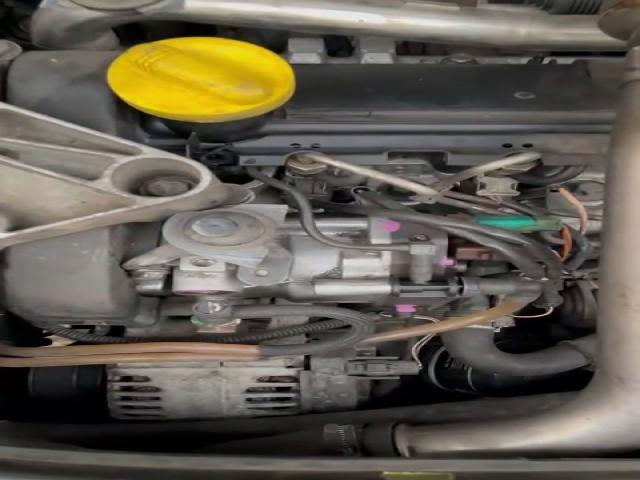alternator: (106, 356, 305, 420)
high_pressure_pump: (124, 218, 539, 313)
